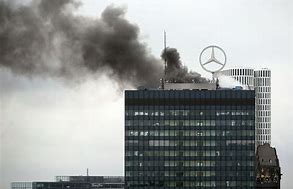smoke: (1, 1, 200, 81)
